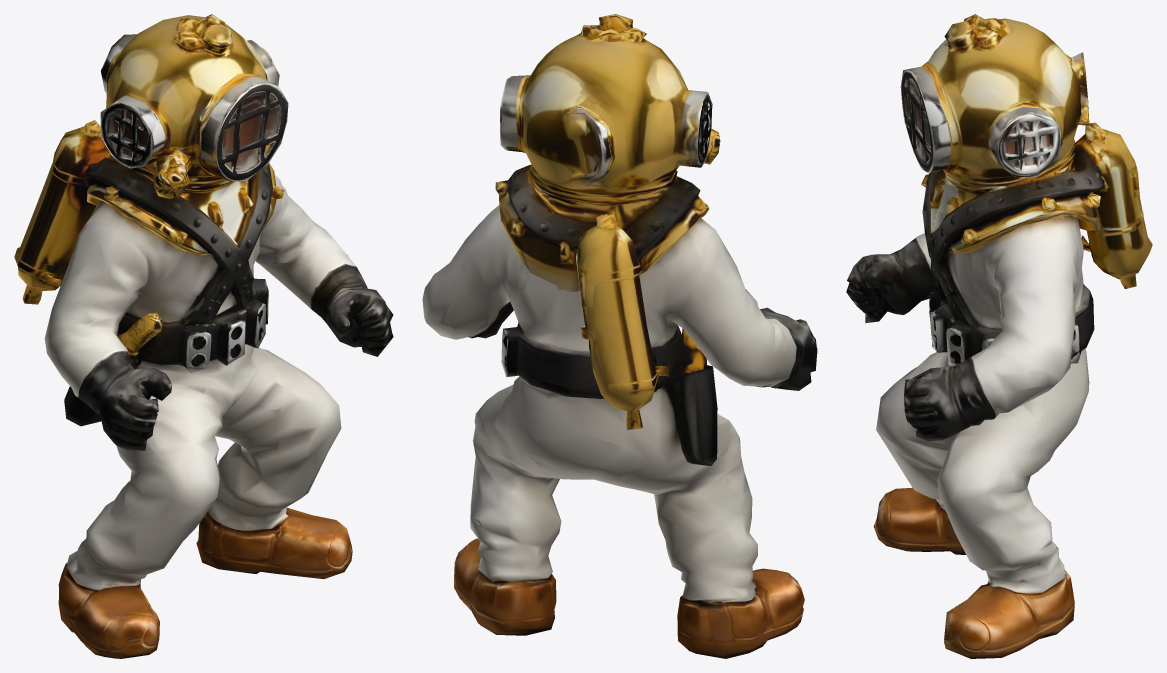
File: diver.glb
3 views of the same model, side by side, from view 1: azimuth 30°, elevation 25°; view 2: azimuth 150°, elevation 25°; view 3: azimuth 270°, elevation 25° (orthographic). The views are drawn at different scales.
Parts seen in each view (by area): view 1: tripo_node_5c52627c-8003-46f9-96ea-e1d033c806f4; view 2: tripo_node_5c52627c-8003-46f9-96ea-e1d033c806f4; view 3: tripo_node_5c52627c-8003-46f9-96ea-e1d033c806f4.
Part boxes in pixels (box(x1,y1,x2,y2)): tripo_node_5c52627c-8003-46f9-96ea-e1d033c806f4: box(14, 14, 393, 658); tripo_node_5c52627c-8003-46f9-96ea-e1d033c806f4: box(422, 14, 817, 658); tripo_node_5c52627c-8003-46f9-96ea-e1d033c806f4: box(846, 14, 1152, 658).
Bounding box in the file's own units: 0.5839 × 1 × 0.483.
1 material, 1 textured.
